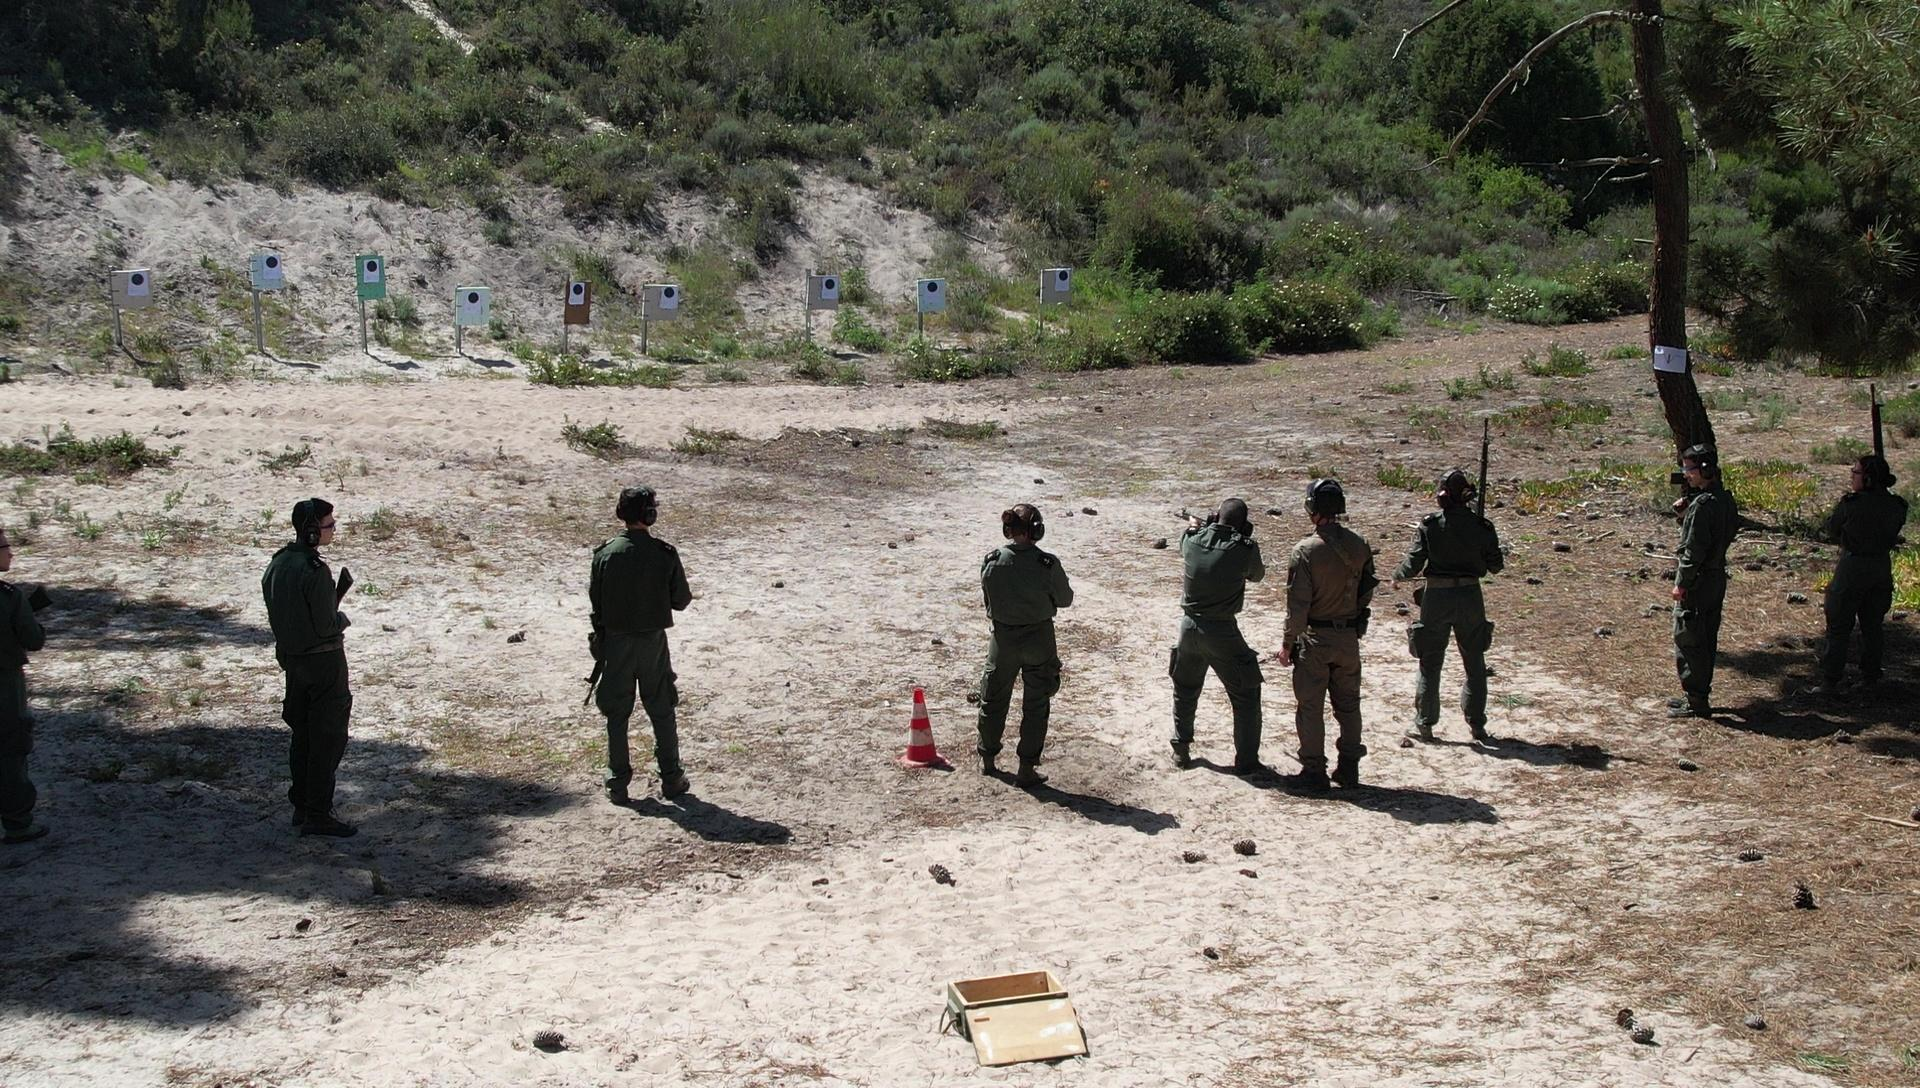Soldier: (233, 506, 401, 866), (555, 483, 721, 833), (1643, 406, 1774, 740), (956, 491, 1092, 811), (1154, 485, 1286, 783), (1400, 430, 1513, 764), (1807, 417, 1919, 727), (1276, 473, 1382, 801), (0, 528, 71, 890)
